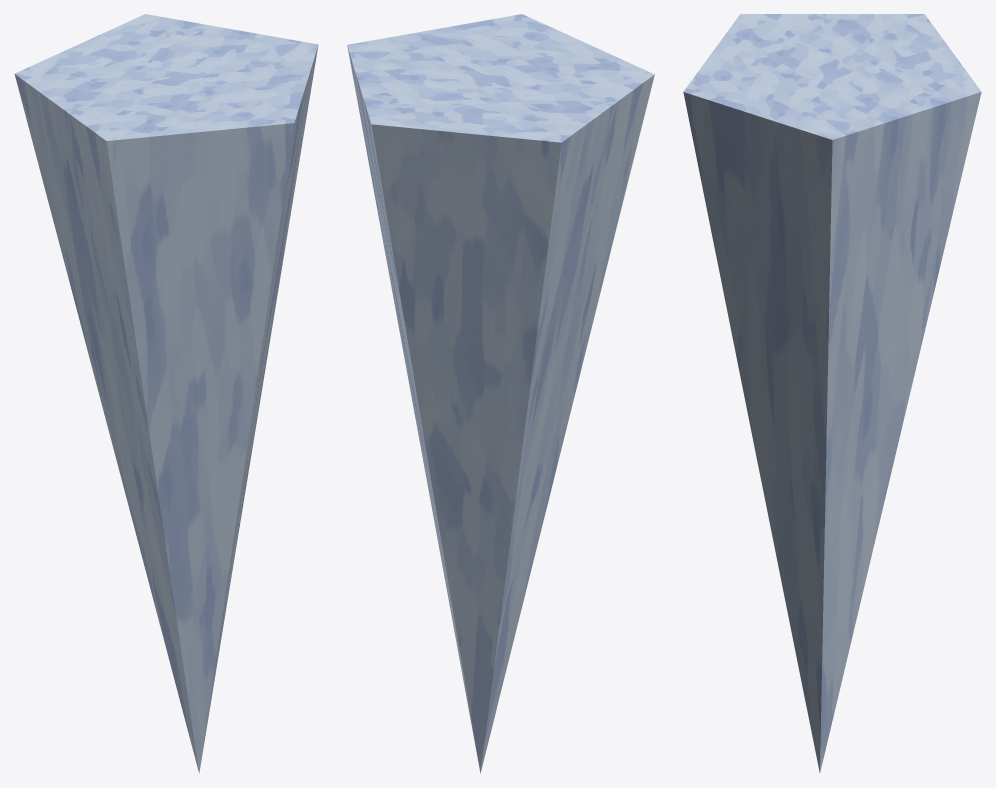
The model's file is icicle_short.glb.
3 renders of one model, left to right at view 1: azimuth 30°, elevation 25°; view 2: azimuth 150°, elevation 25°; view 3: azimuth 270°, elevation 25°, orthographic.
Parts seen in each view (by area): view 1: winter_icicle_short; view 2: winter_icicle_short; view 3: winter_icicle_short.
Boxes of the visible parts, x1=… form: winter_icicle_short: x1=14, y1=14, x2=318, y2=773; winter_icicle_short: x1=347, y1=14, x2=654, y2=773; winter_icicle_short: x1=683, y1=14, x2=981, y2=772.
Bounding box in the file's own units: 0.07 × 0.18 × 0.07.
1 material, 1 textured.
